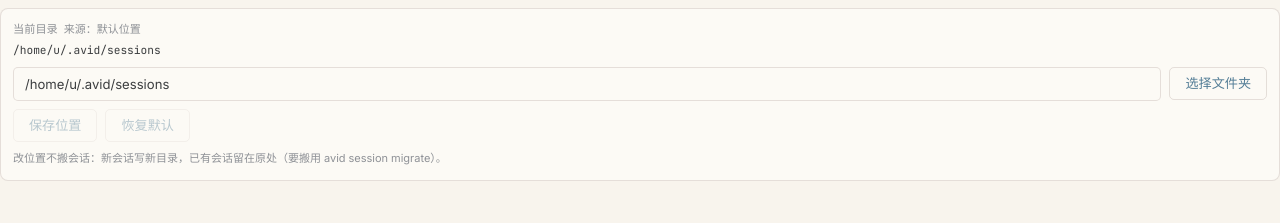
Test case: SessionsSection（设置 · 会话存储） › 保存失败（比如相对路径被拒）把服务端的原话显示出来
This screenshot has width=1280, height=223.
Replace the text in the field named "会话目录" with "relative/dir" at (587, 84), box [13,67,1161,101]
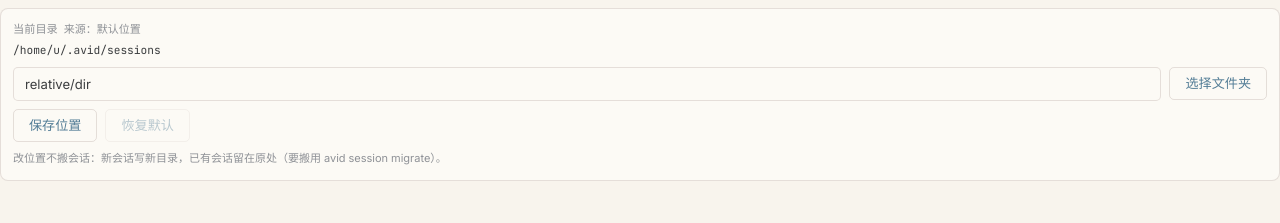
Click the button "保存位置" at (55, 125), box [13,109,98,142]
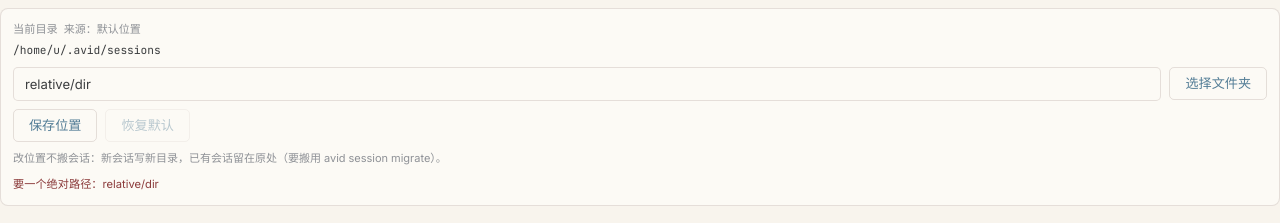
Expected: the text "要一个绝对路径：relative/dir" is shown, [13,177,159,191]
